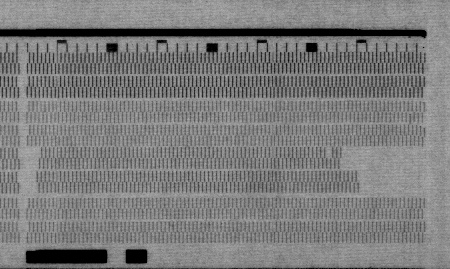Broken hole: (339, 148, 429, 195), (21, 146, 42, 199), (323, 145, 334, 160)
